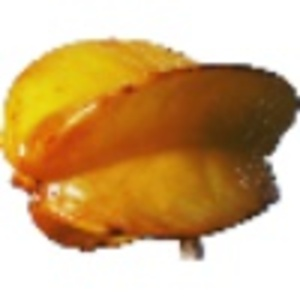carambola: (1, 35, 300, 263)
